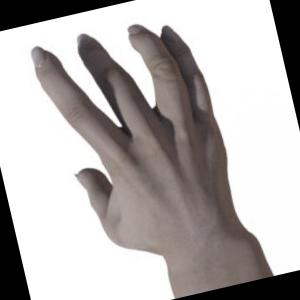paper: (31, 24, 271, 277)
